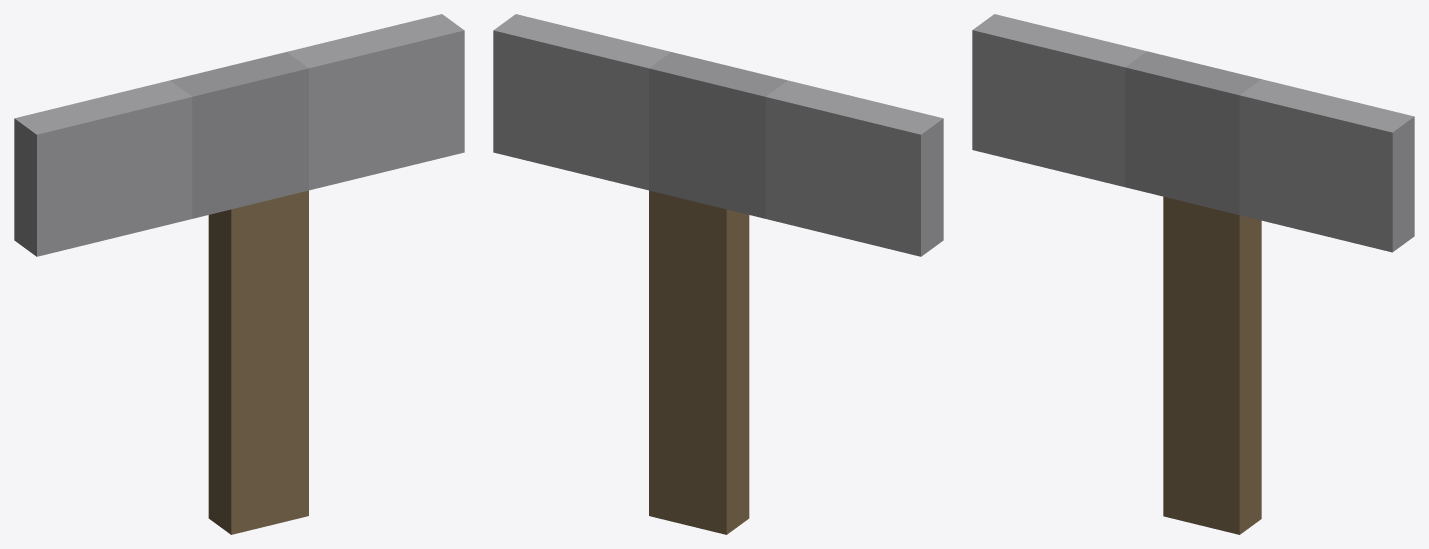
Rendered from pico_minero_hierro_01.glb.
3 views of the same model, side by side, from view 1: azimuth 30°, elevation 25°; view 2: azimuth 150°, elevation 25°; view 3: azimuth 330°, elevation 25° (orthographic).
Visible parts, largest first — view 1: pico_minero_hierro; view 2: pico_minero_hierro; view 3: pico_minero_hierro.
Boxes of the visible parts, bbox=[...] form: pico_minero_hierro: bbox=[14, 14, 464, 534]; pico_minero_hierro: bbox=[493, 14, 943, 534]; pico_minero_hierro: bbox=[972, 14, 1414, 534].
Size of the model in its own units: 0.9167 by 0.9167 by 0.0833.
